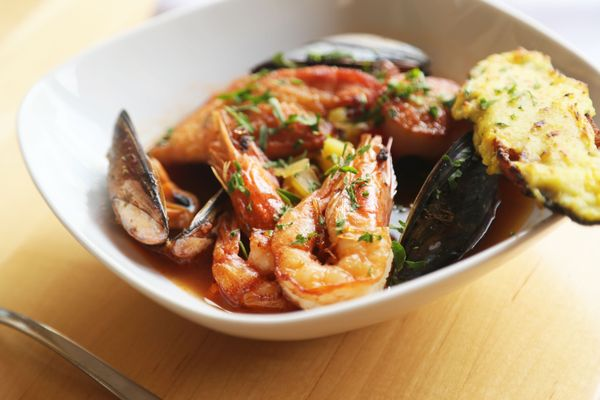salad: (396, 129, 501, 281)
sushi: (30, 19, 584, 344)
